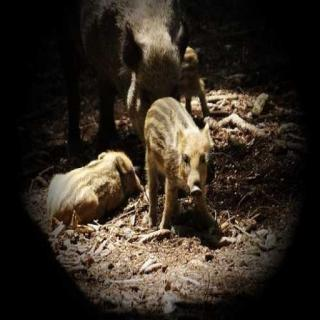Pig: (128, 91, 234, 253)
